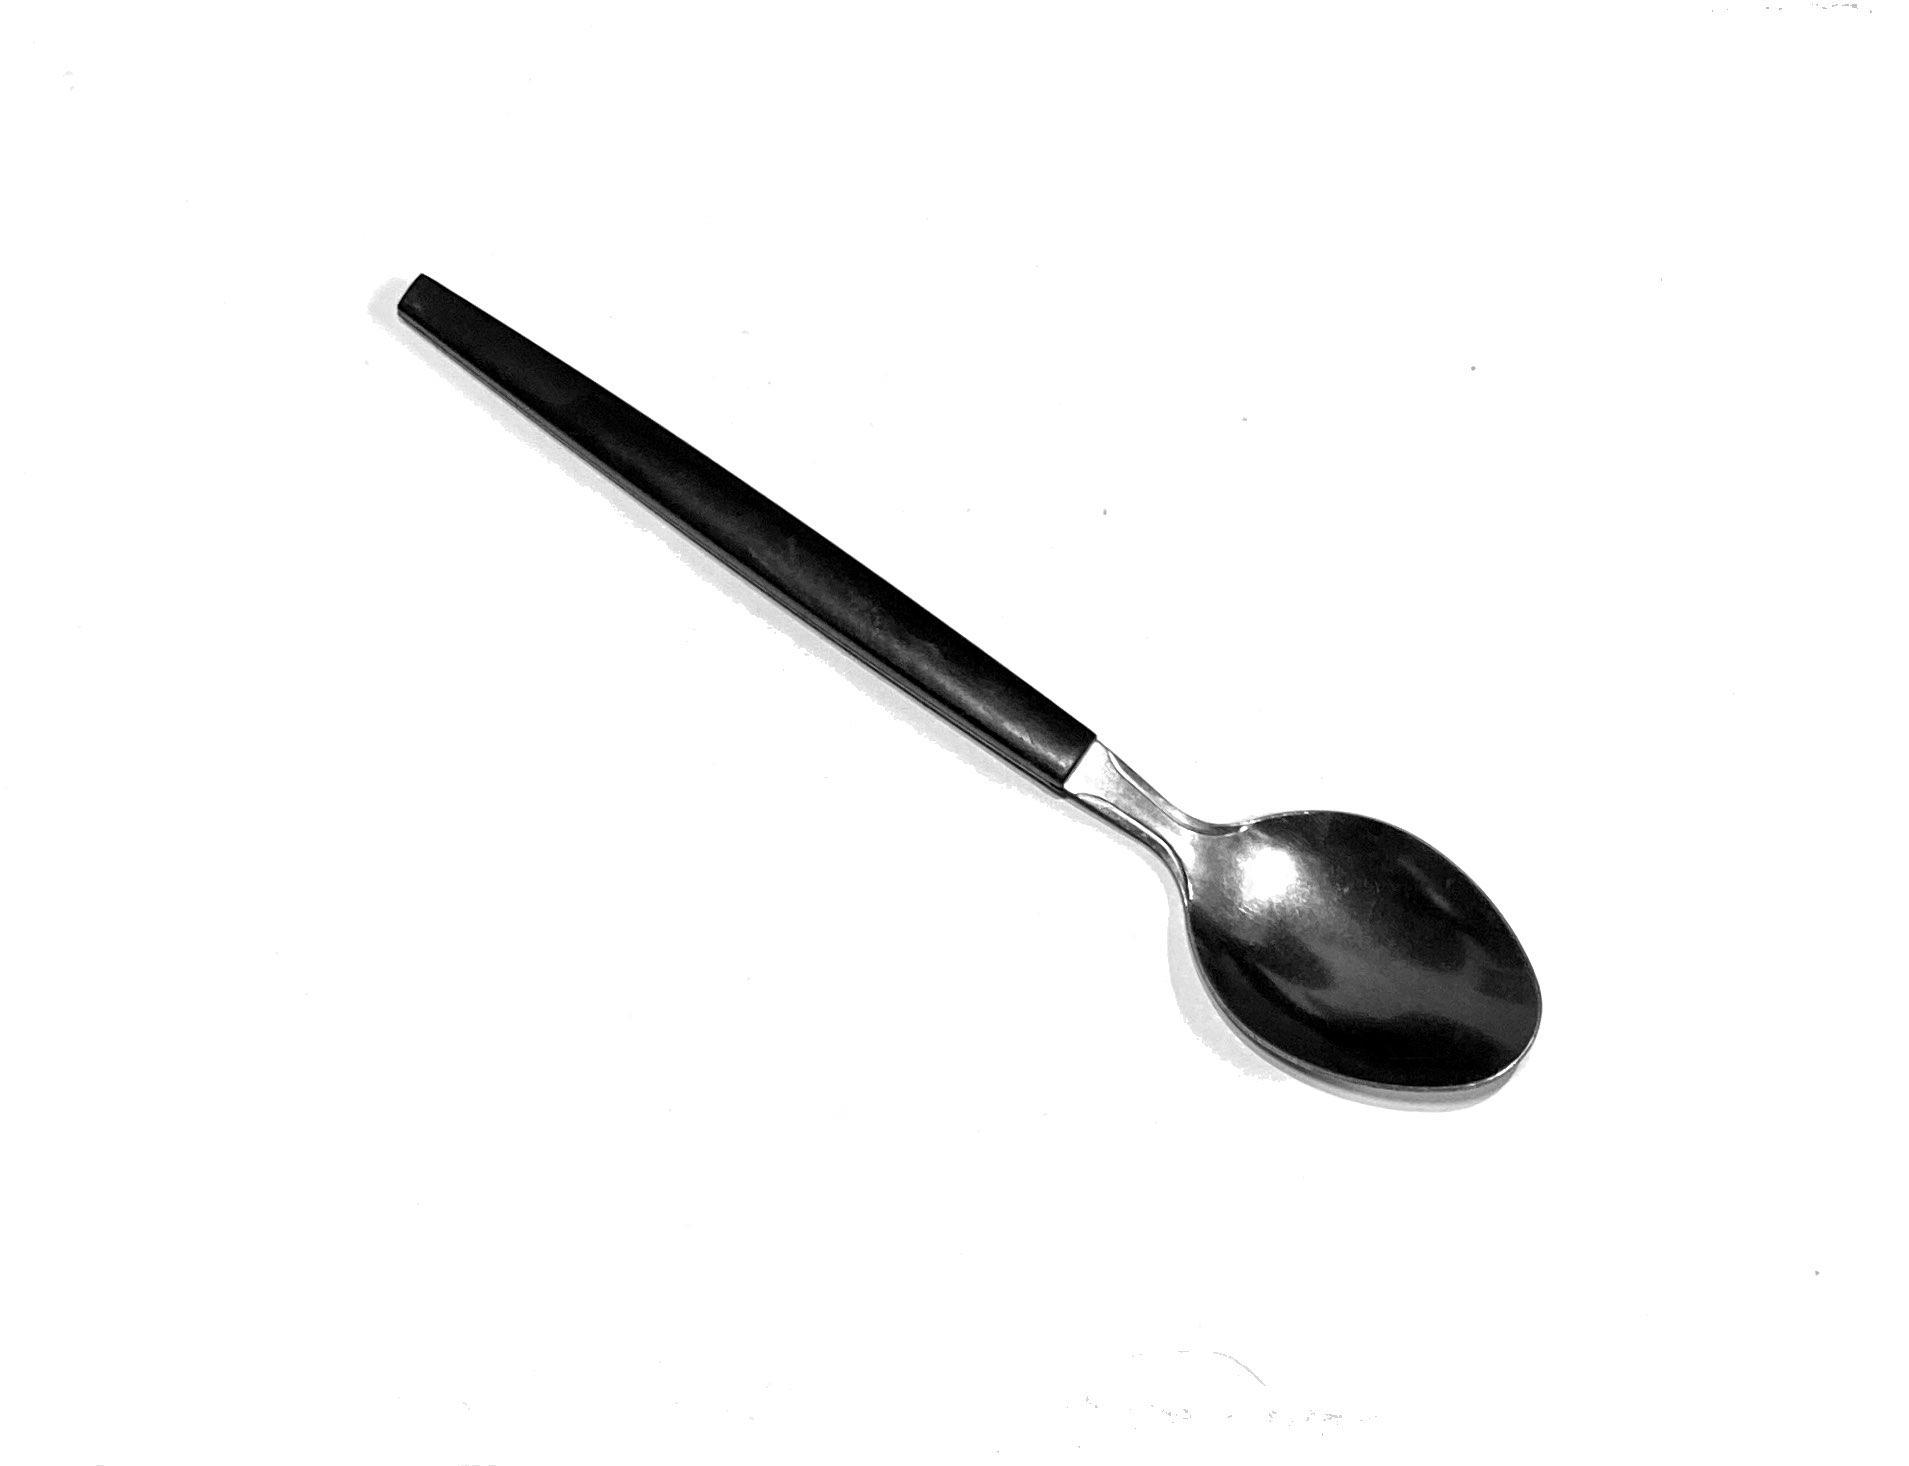Spoon: (356, 206, 1569, 1190)
